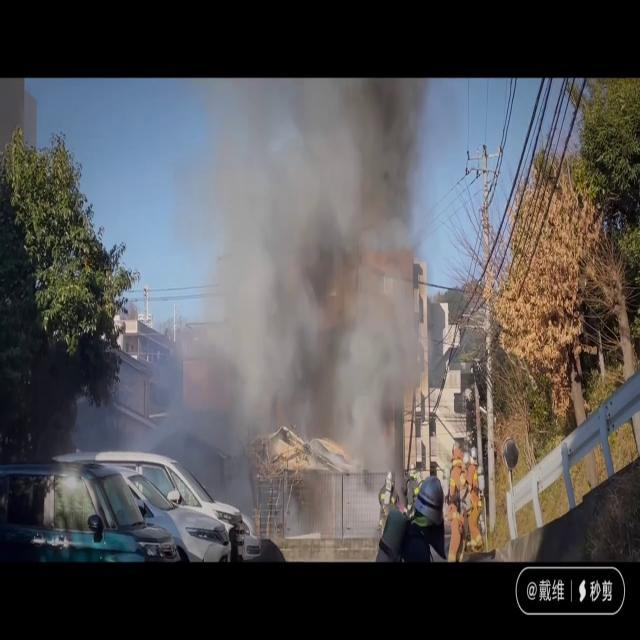Smoke: (150, 79, 446, 504)
